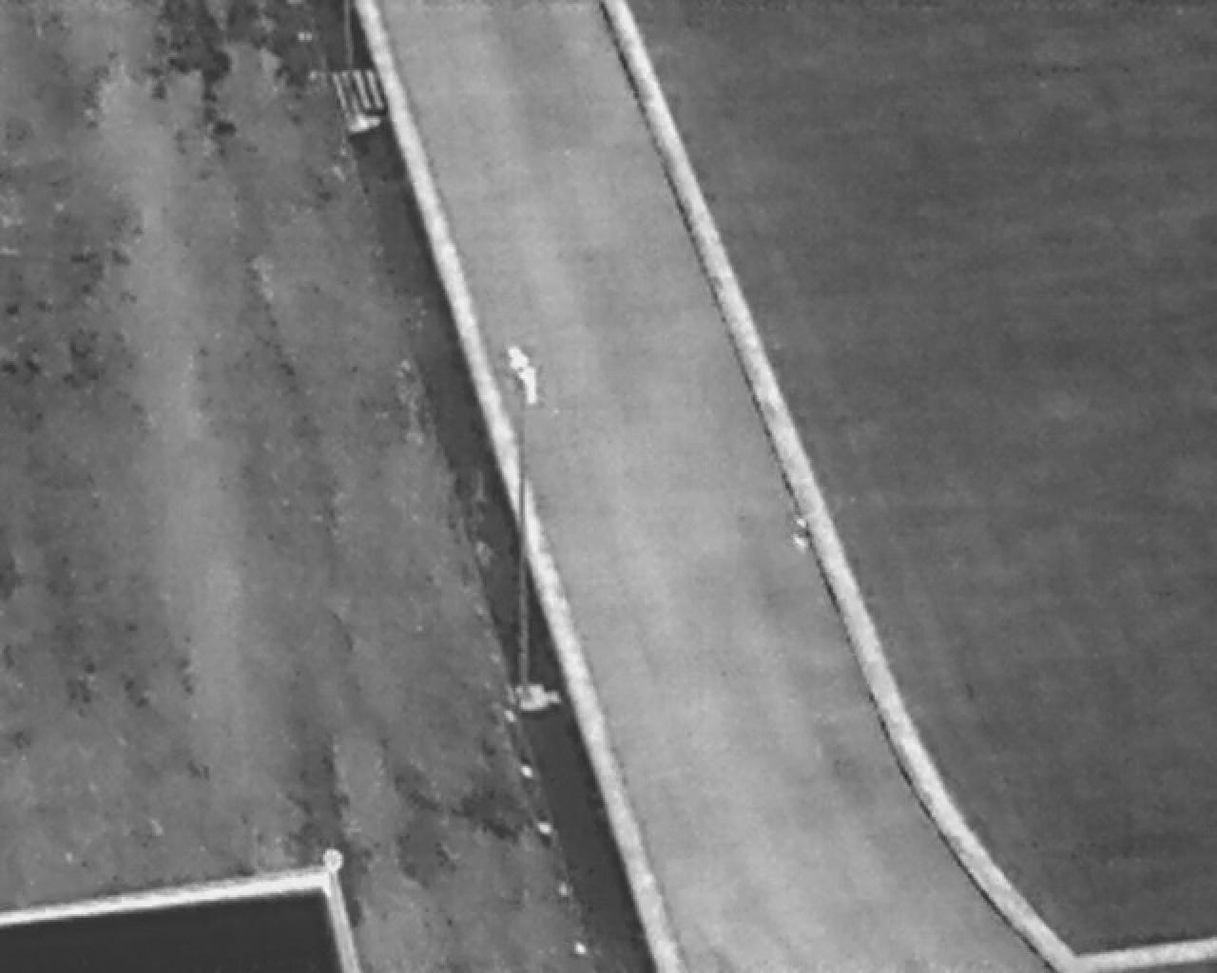person: (516, 366, 543, 410), (505, 341, 530, 373), (792, 514, 811, 552)
